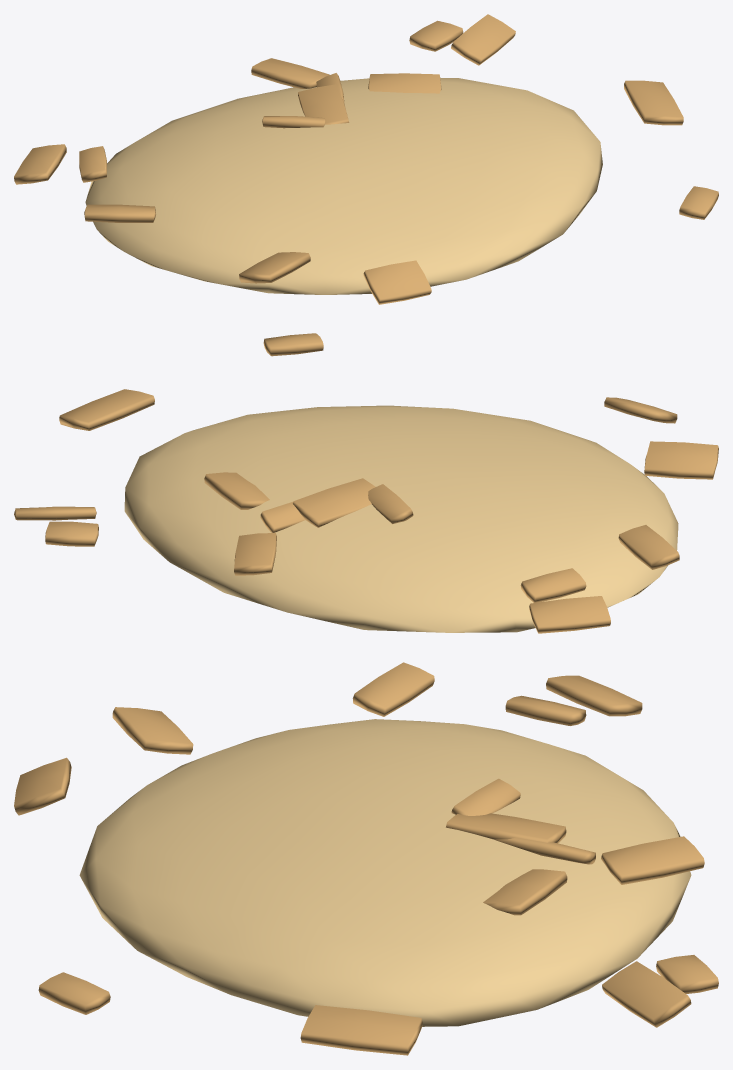
Rendered from LogJamChips.obj.
3 renders of one model, top to bottom at view 1: azimuth 30°, elevation 25°; view 2: azimuth 150°, elevation 25°; view 3: azimuth 270°, elevation 25°, orthographic. The views are drawn at different scales.
Parts seen in each view (by area): view 1: Sawdust, Chips; view 2: Sawdust, Chips; view 3: Sawdust, Chips.
Part boxes in pixels (box(x1,y1,x2,y2)): Sawdust: box(85, 78, 602, 294); Chips: box(14, 14, 718, 304); Sawdust: box(124, 405, 678, 632); Chips: box(14, 333, 718, 633); Sawdust: box(79, 719, 691, 1026); Chips: box(14, 662, 718, 1055).
Bounding box in the file's own units: 4.13 × 0.3895 × 3.32.
